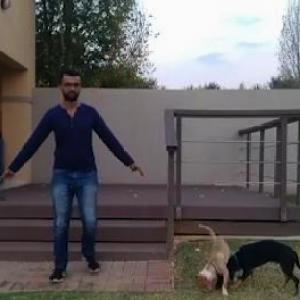land: (1, 75, 143, 290)
